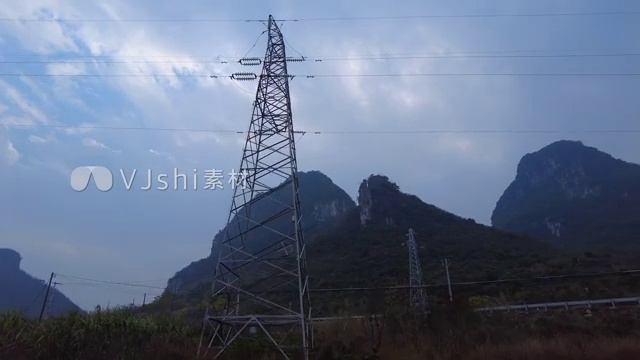tower_body: (196, 8, 328, 359)
tower_foot: (199, 285, 318, 360)
tower_head: (252, 16, 304, 47)
